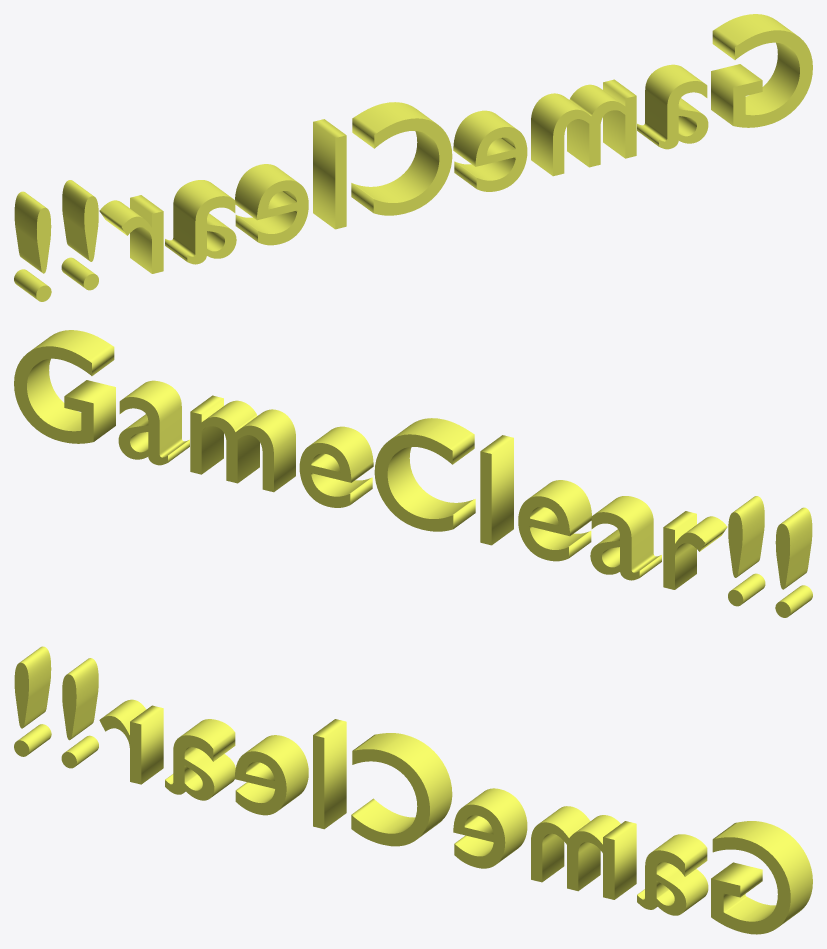
The model's file is GameClear.obj.
The picture shows the model from 3 angles, top to bottom: view 1: azimuth 30°, elevation 25°; view 2: azimuth 150°, elevation 25°; view 3: azimuth 330°, elevation 25°; orthographic projection.
Parts seen in each view (by area): view 1: テキスト; view 2: テキスト; view 3: テキスト.
Boxes of the visible parts, box(x1,y1,x2,y2) form: テキスト: box(14, 14, 812, 301); テキスト: box(14, 330, 812, 617); テキスト: box(14, 646, 812, 934).
Size of the model in its own units: 6.06 by 0.7 by 0.3.
Materials: 1 (1 with a texture image).
